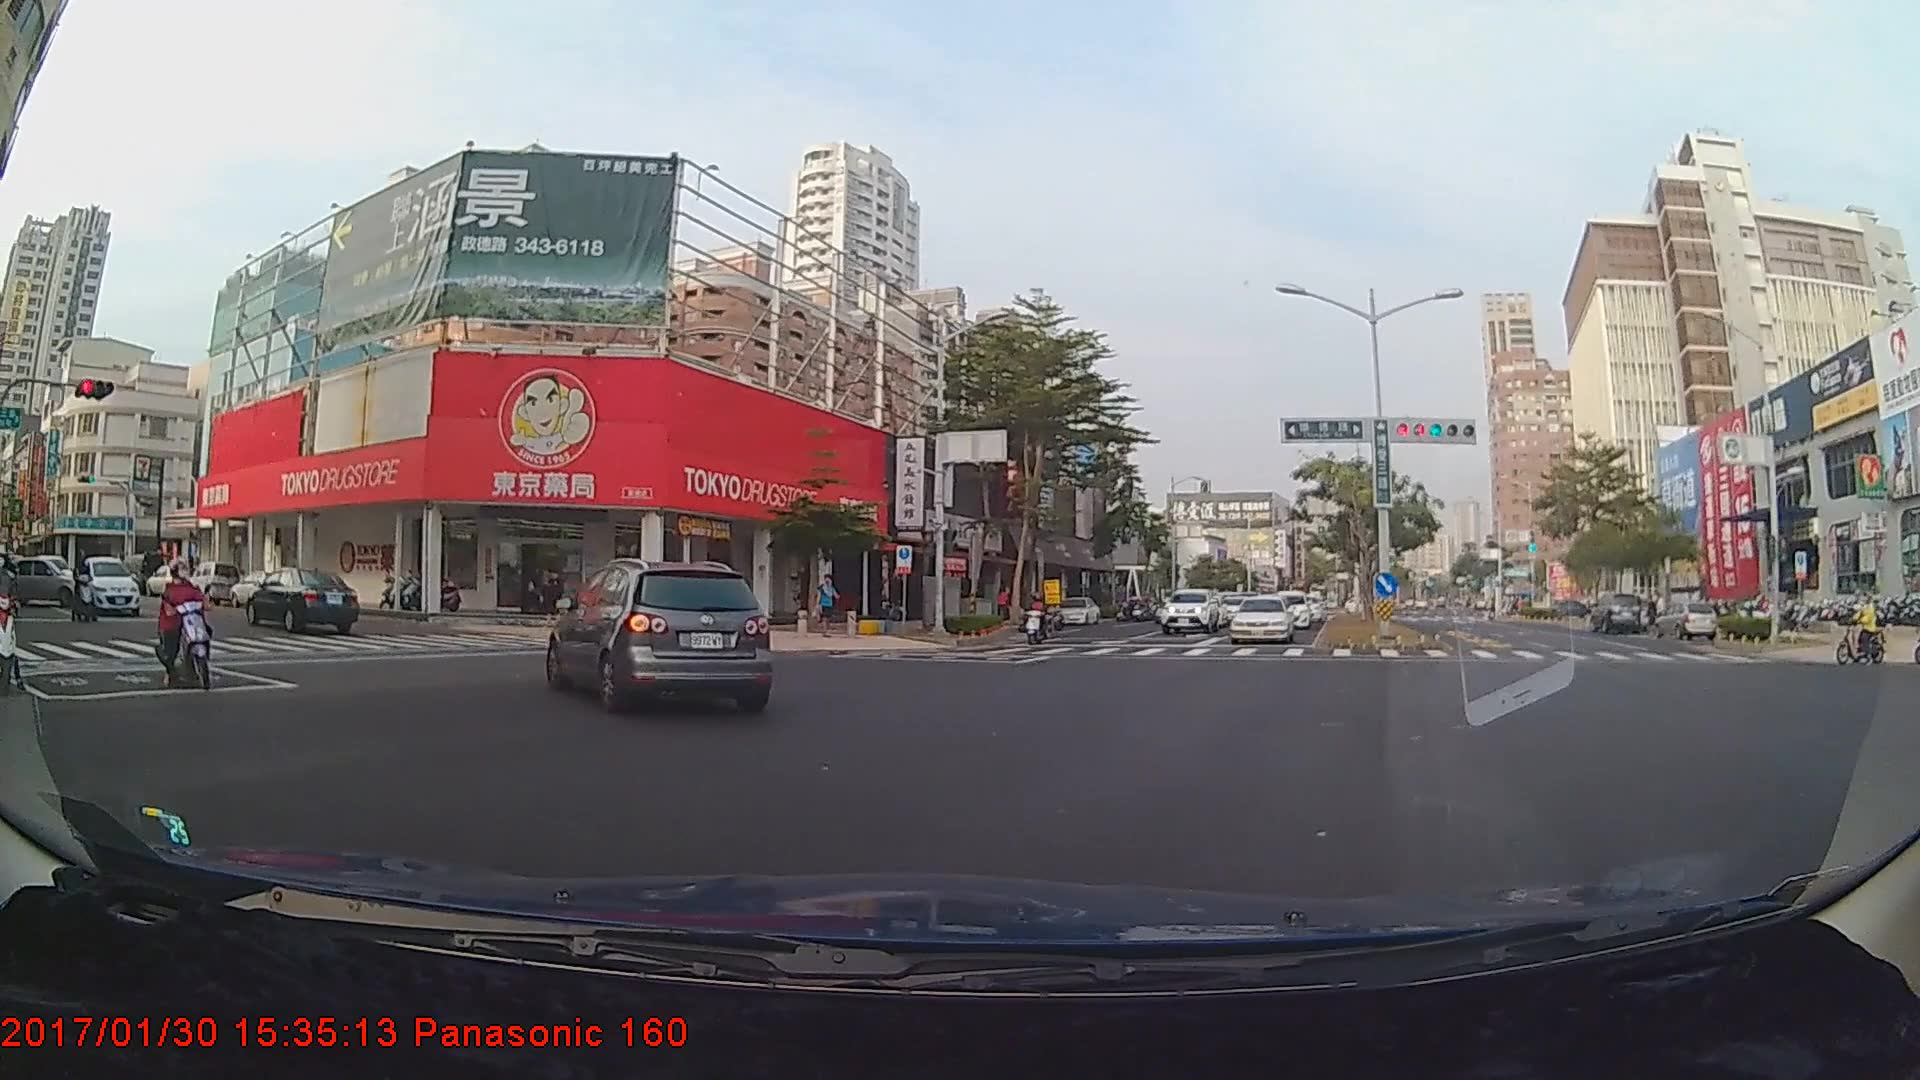pedestrian: (818, 572, 838, 643)
rider: (156, 560, 223, 689), (68, 546, 106, 627), (1023, 586, 1058, 644)
vehicle: (549, 560, 770, 713), (246, 567, 358, 635), (78, 555, 141, 614), (1228, 594, 1291, 642), (1160, 587, 1218, 635), (1585, 592, 1641, 634), (1263, 588, 1311, 628), (1009, 606, 1031, 626)
